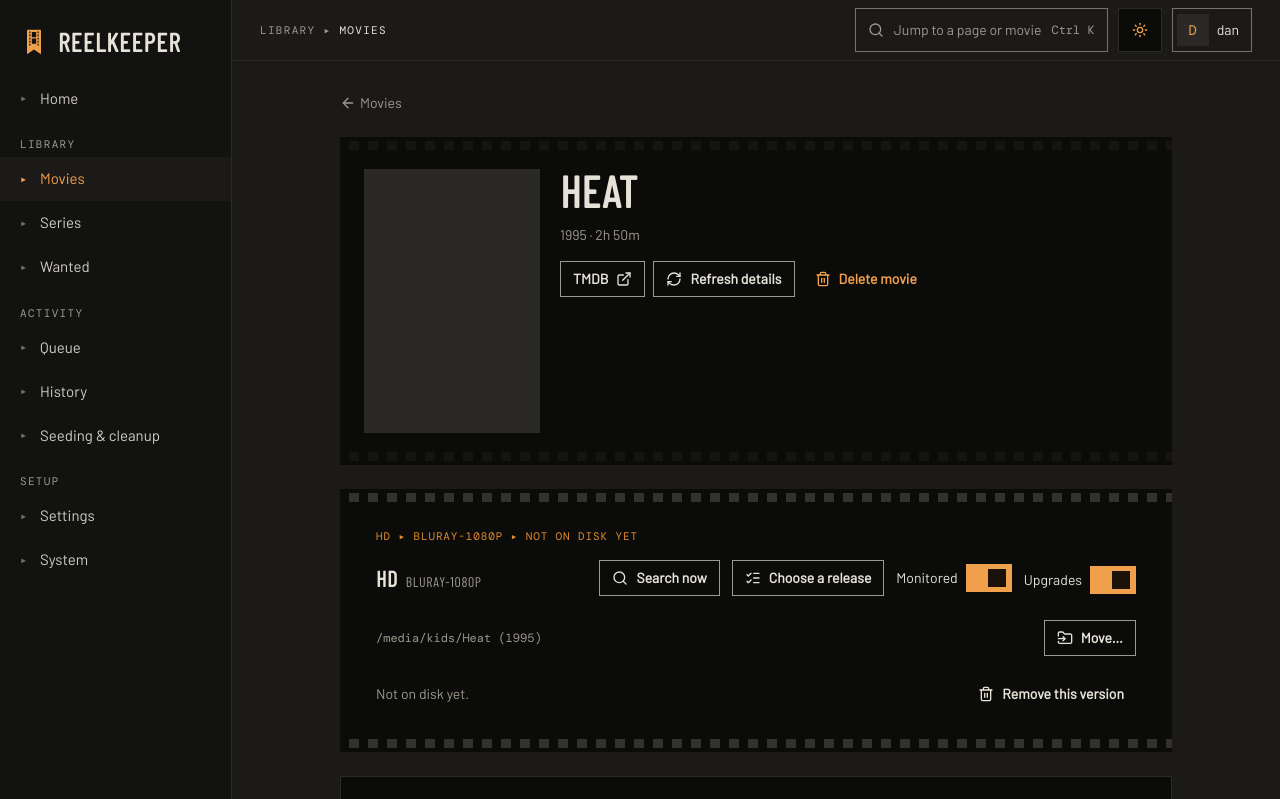
moving a movie to another media folder › shows the plan, moves, and follows the task to the end
The width and height of the screenshot is (1280, 799).
Click the button "Move…" at {"x": 1090, "y": 638}, box [1044,620,1136,656]
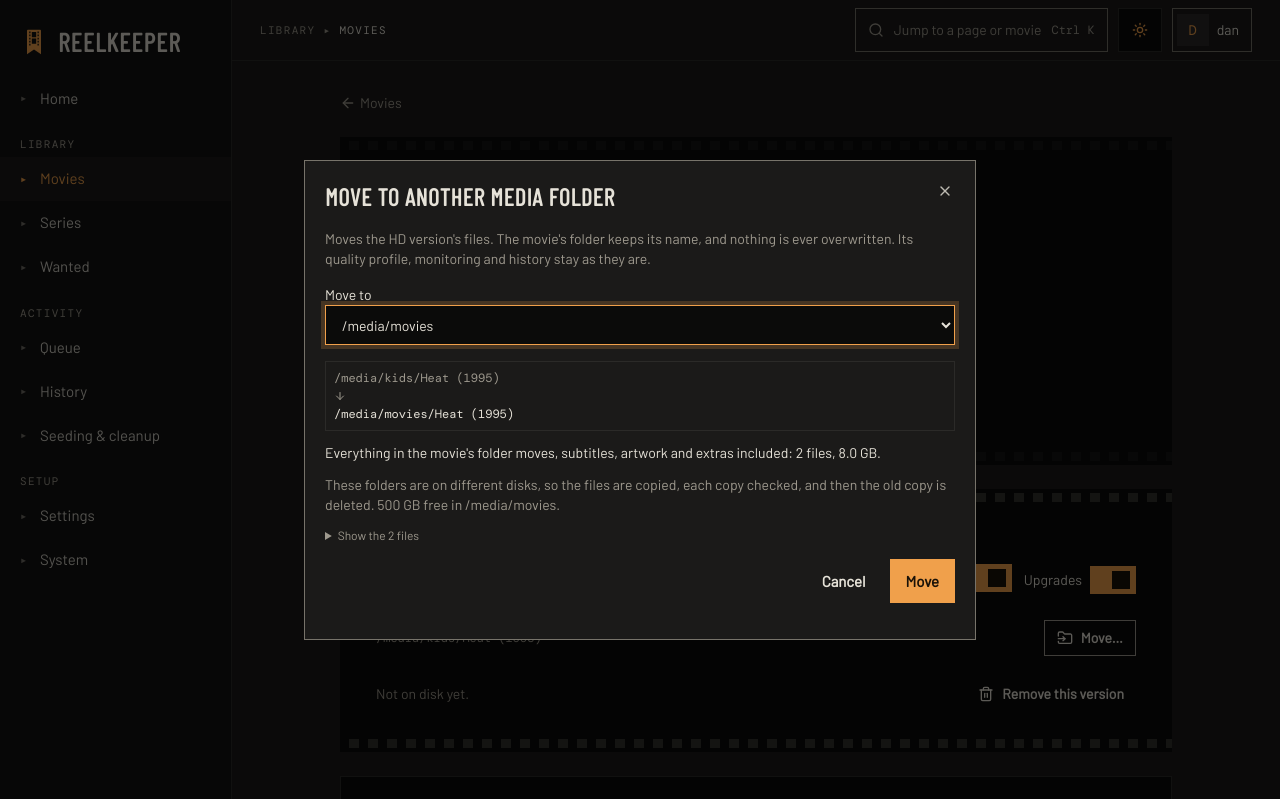
Result: the text "/media/movies/Heat (1995)" is shown at [334,406,514,422]
Result: the text "Everything in the movie's folder moves" is shown at [325,444,881,461]
Click the button "Move" at {"x": 922, "y": 581}, box [890,559,955,603]
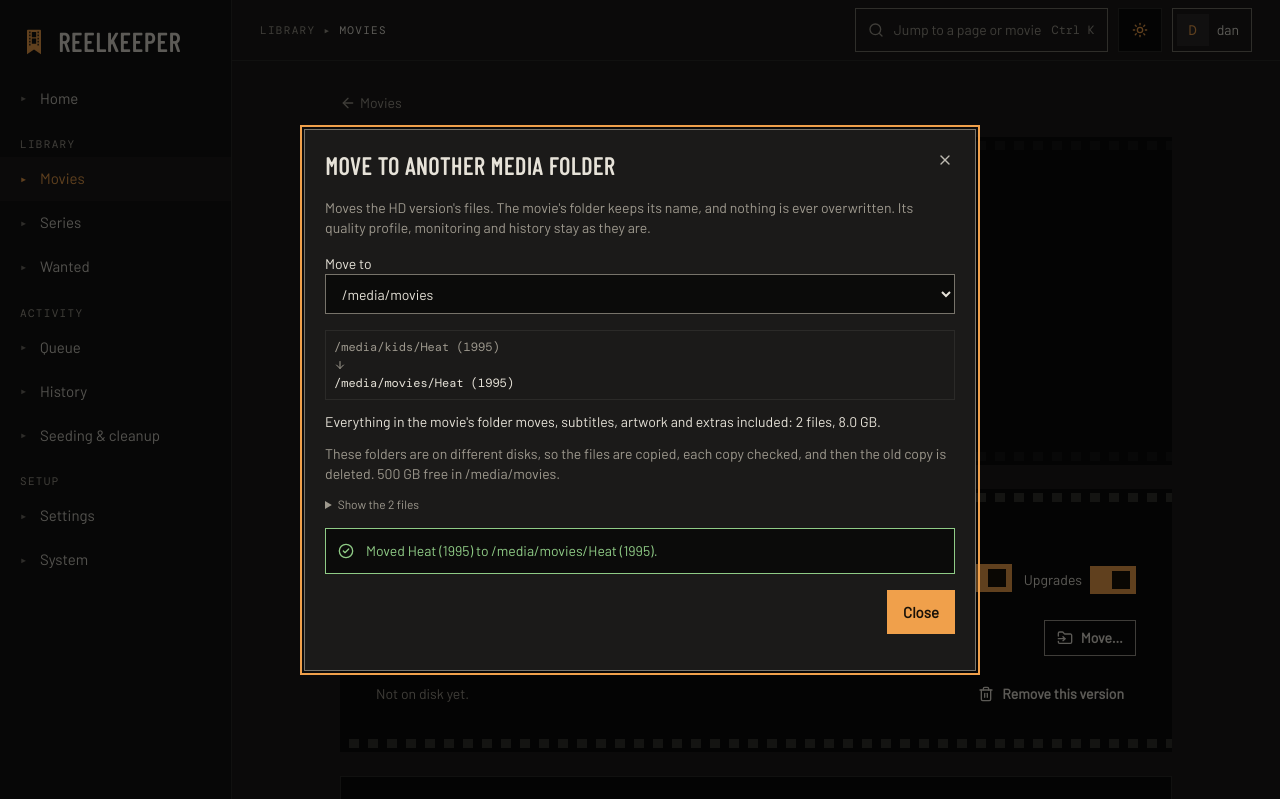
Result: the text "Moved Heat (1995) to /media/movies/Heat (1995)." is shown at [366,541,658,561]
